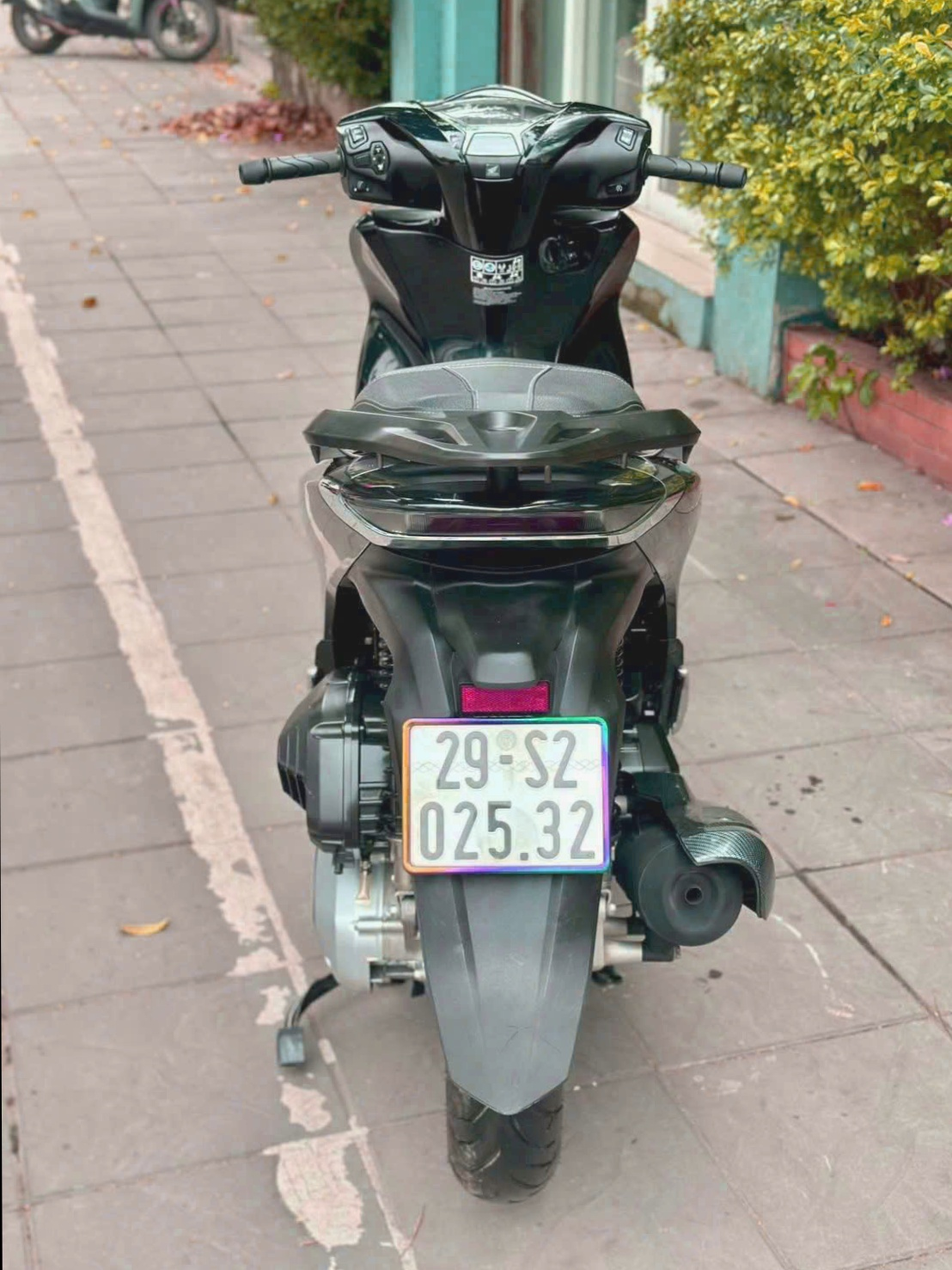Bien-so: (398, 715, 615, 876)
